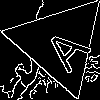A: (34, 19, 93, 74)
